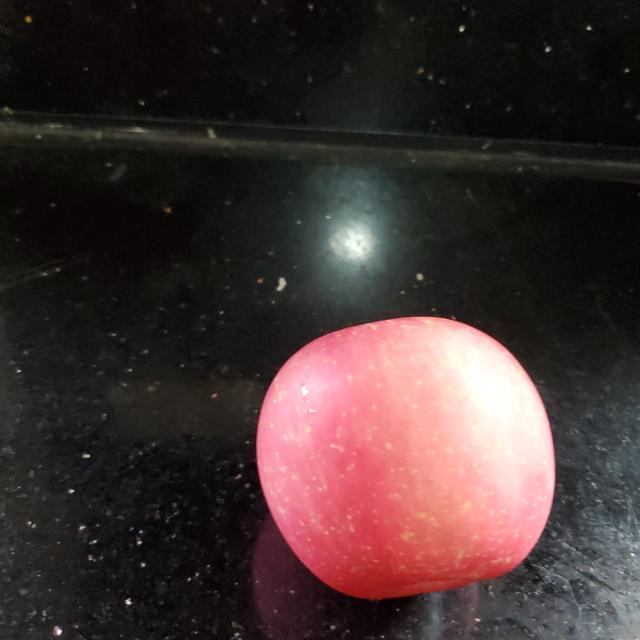apple: (256, 318, 557, 603)
